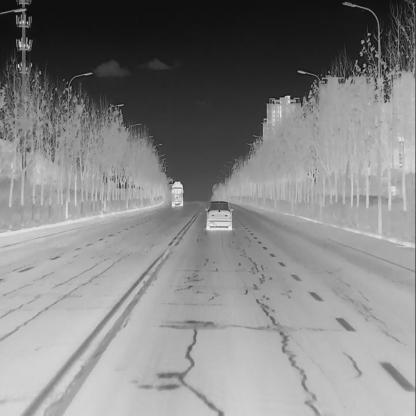car: (203, 199, 233, 230)
truck: (170, 180, 184, 207)
